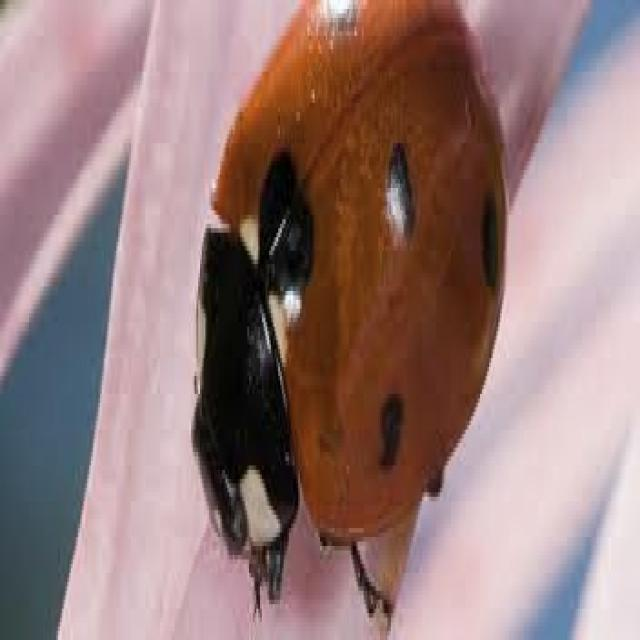ladybug: (195, 0, 507, 622)
